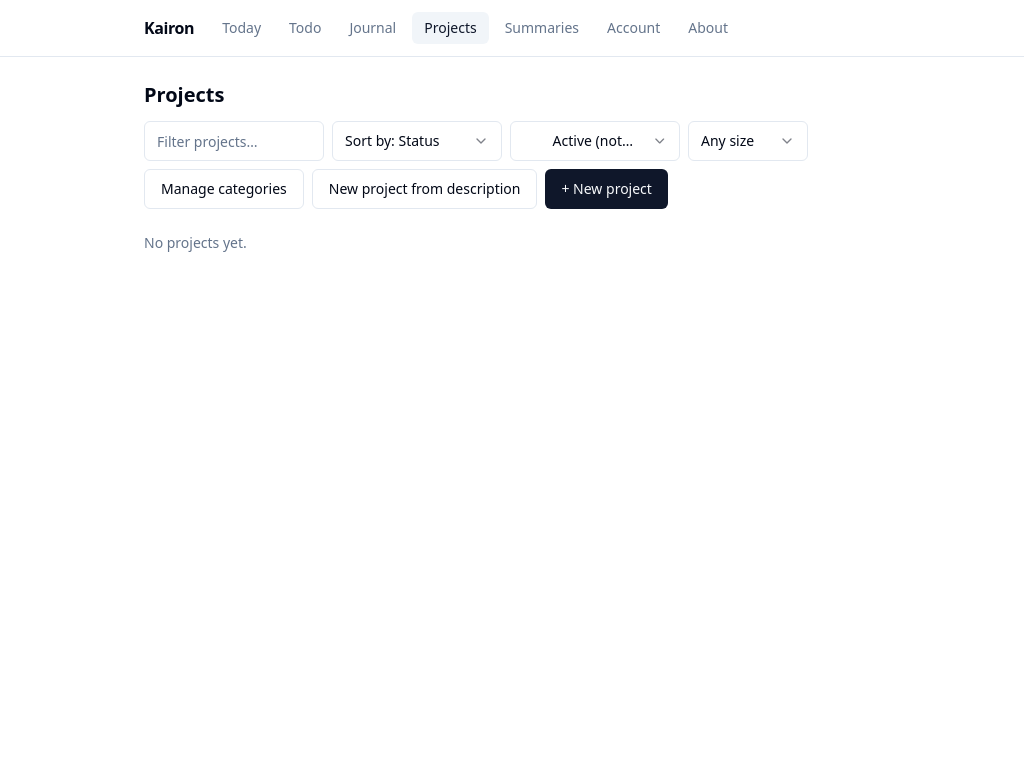
Scenario: generating a plan without opting in shows the backend's 403 message
Click the button "New project from description" at coordinates (425, 189), box left=312, top=169, right=538, bottom=209
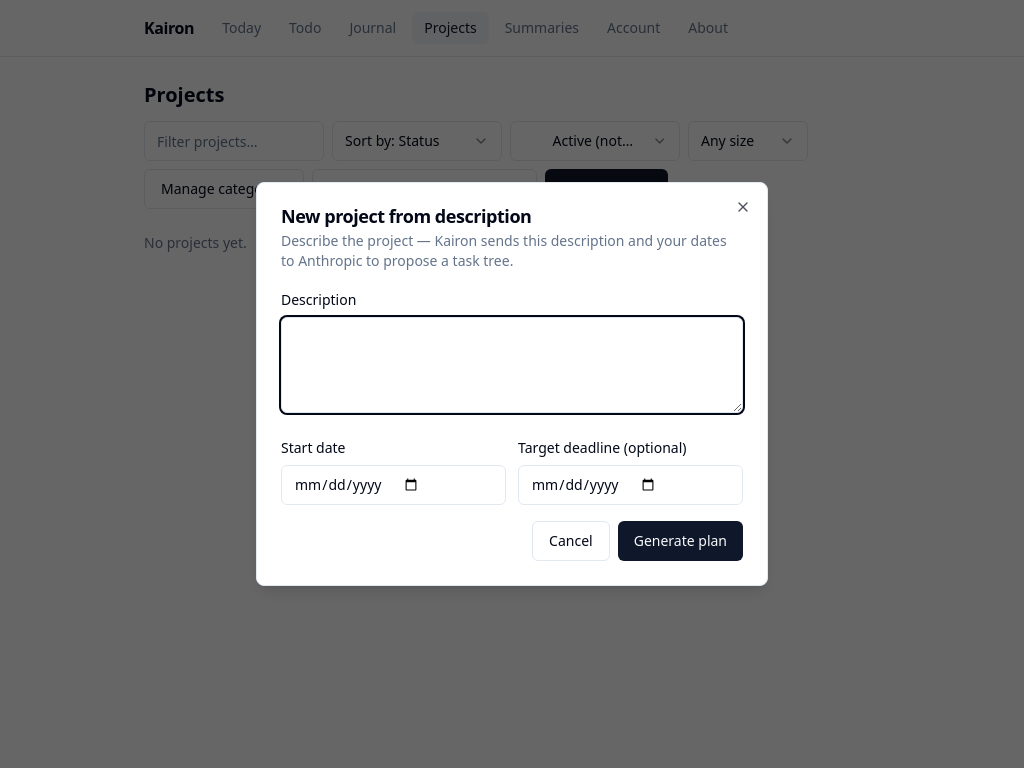
Type "Kitchen remodel" into the text box labelled "Description" at coordinates (512, 365), box left=281, top=317, right=743, bottom=413
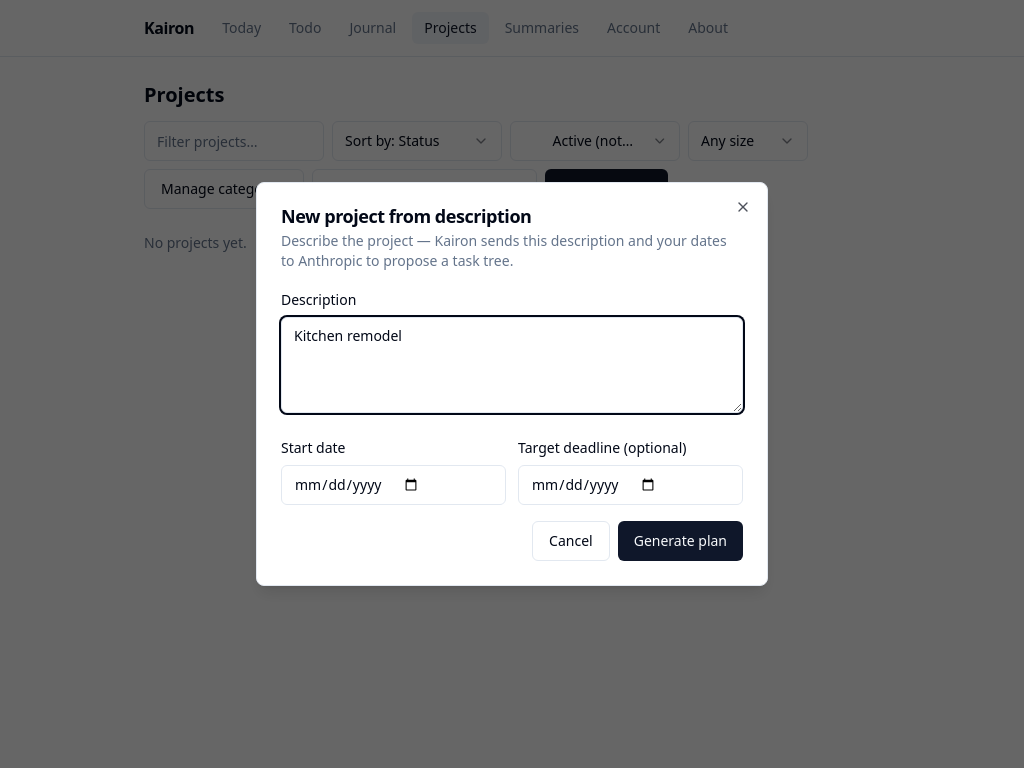
Type "2026-10-01" into the date field labelled "Start date" at coordinates (394, 485), box left=281, top=465, right=506, bottom=505
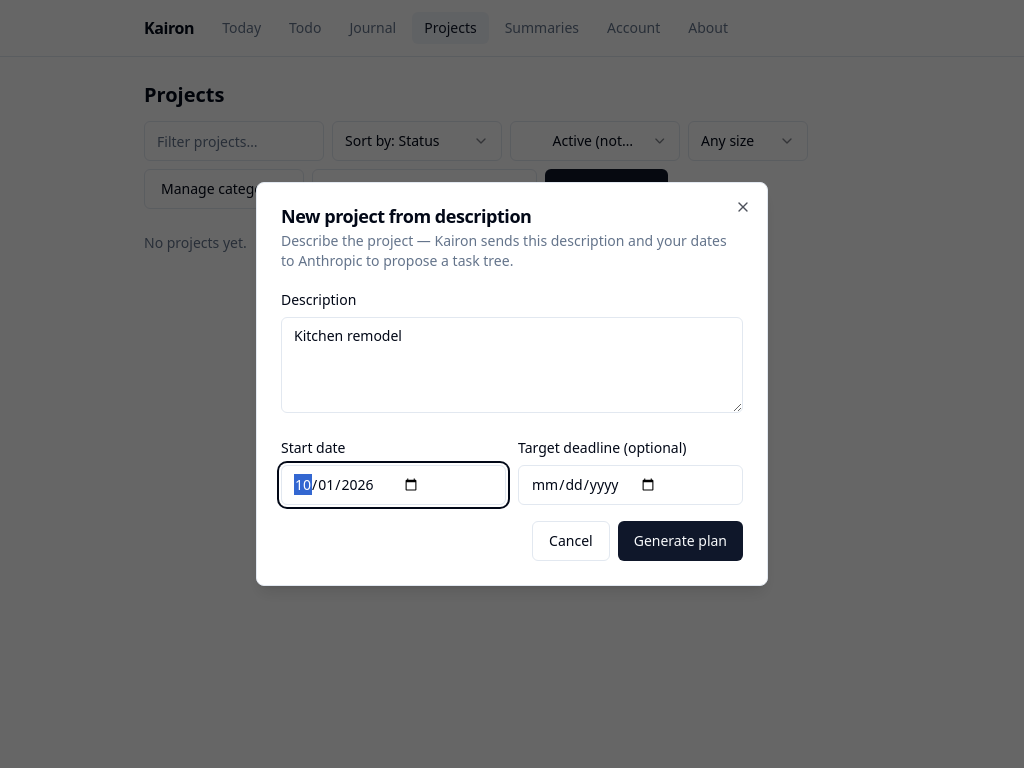
Click the button "Generate plan" at coordinates (680, 541), box left=618, top=521, right=743, bottom=561
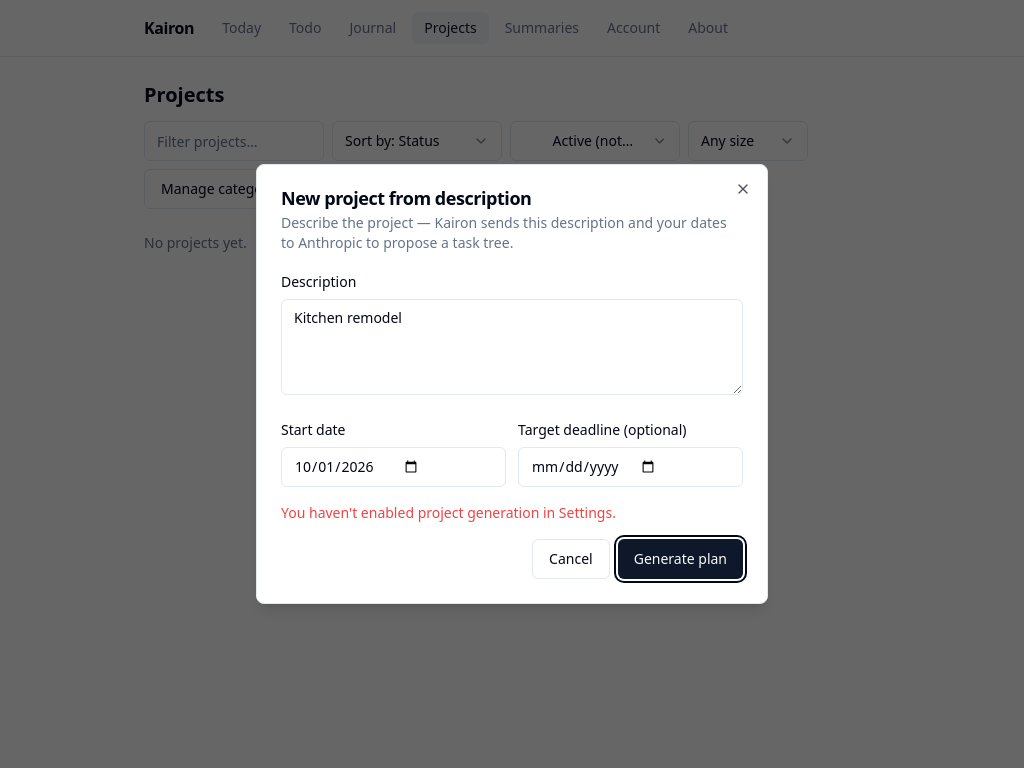
Check: the message reads "You haven't enabled project generation in Settings.", box left=281, top=503, right=616, bottom=522
